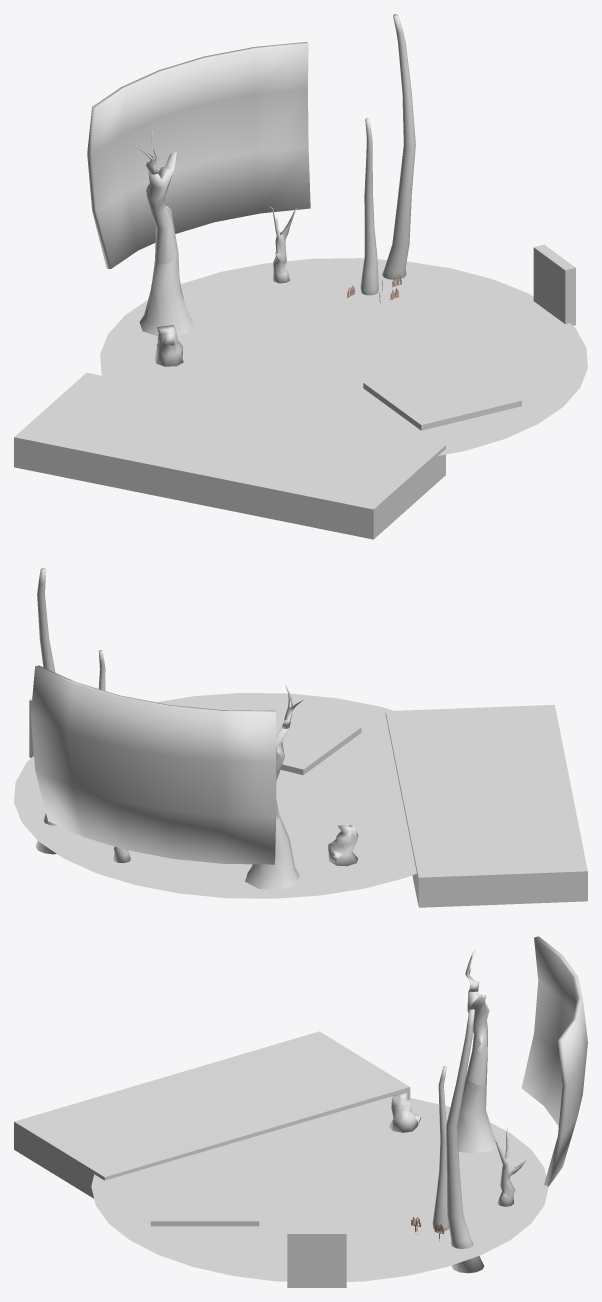
The model's file is Egg_GameTest.fbx.
3 views of the same model, one above another, from view 1: azimuth 30°, elevation 25°; view 2: azimuth 150°, elevation 25°; view 3: azimuth 270°, elevation 25° (orthographic). The views are drawn at different scales.
Parts seen in each view (by area): view 1: Plane, WAVES, ProjectorScreen, LAVA POOL, DeadTree_lg, Palm_med, Door, Palm_sm, DeadTree_trunk, DeadTree_med; view 2: ProjectorScreen, WAVES, Plane, LAVA POOL, DeadTree_lg, Palm_med, DeadTree_trunk; view 3: Plane, WAVES, ProjectorScreen, LAVA POOL, DeadTree_lg, Door, Palm_med, Palm_sm, DeadTree_trunk, DeadTree_med.
Part boxes in pixels (x1,y1,x2,y2): Plane: (100, 258, 587, 455); WAVES: (14, 372, 445, 539); ProjectorScreen: (87, 42, 310, 268); LAVA POOL: (363, 358, 521, 430); DeadTree_lg: (130, 130, 194, 335); Palm_med: (382, 14, 415, 279); Door: (533, 244, 575, 325); Palm_sm: (360, 118, 378, 295); DeadTree_trunk: (154, 325, 183, 366); DeadTree_med: (269, 206, 296, 283); ProjectorScreen: (30, 665, 276, 864); WAVES: (385, 704, 587, 907); Plane: (14, 693, 416, 898); LAVA POOL: (251, 702, 361, 775); DeadTree_lg: (245, 684, 304, 889); Palm_med: (35, 568, 57, 854); DeadTree_trunk: (328, 825, 358, 866); Plane: (91, 1096, 548, 1281); WAVES: (14, 1031, 410, 1198); ProjectorScreen: (521, 936, 587, 1186); LAVA POOL: (150, 1175, 259, 1226); DeadTree_lg: (457, 949, 498, 1153); Door: (287, 1229, 346, 1287); Palm_med: (446, 1009, 484, 1273); Palm_sm: (432, 1066, 449, 1231); DeadTree_trunk: (389, 1091, 420, 1132); DeadTree_med: (494, 1128, 526, 1206).
Bounding box in the file's own units: 1986 × 975 × 1936.
